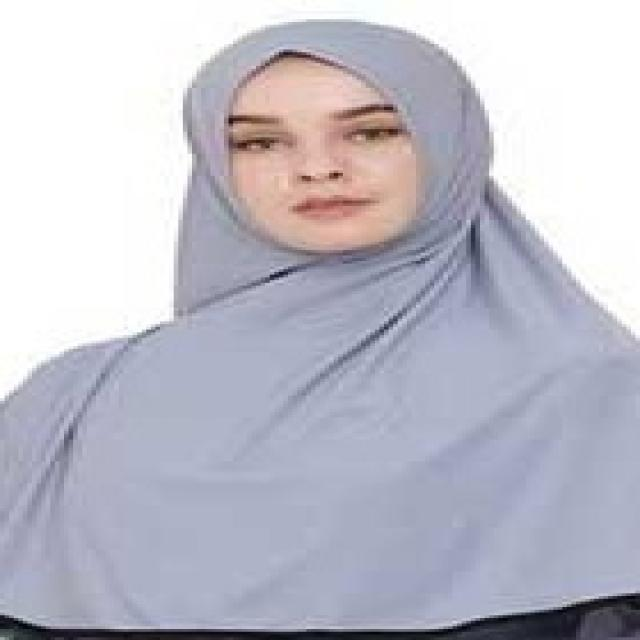head: (182, 22, 498, 255)
